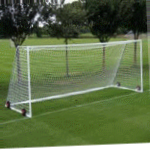goals: (4, 38, 146, 120)
